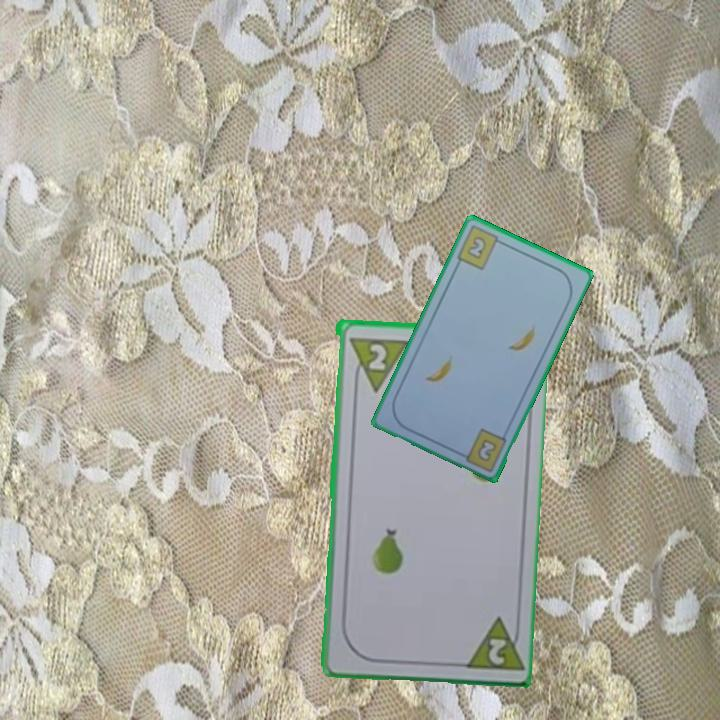2b: (453, 222, 508, 273), (474, 435, 500, 464)
2p: (364, 339, 389, 373), (484, 634, 508, 667)
